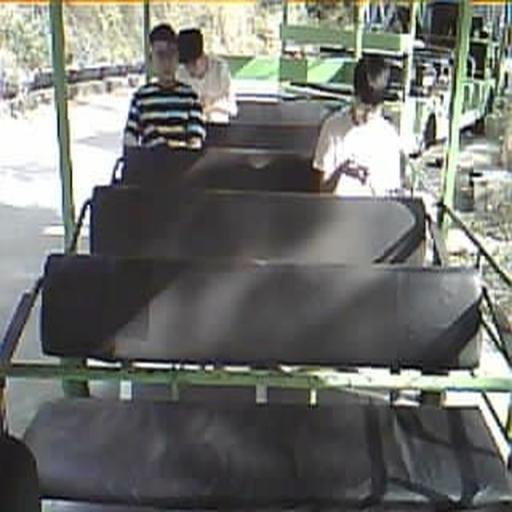persona: (311, 54, 407, 198), (121, 22, 208, 158), (176, 26, 238, 124)
